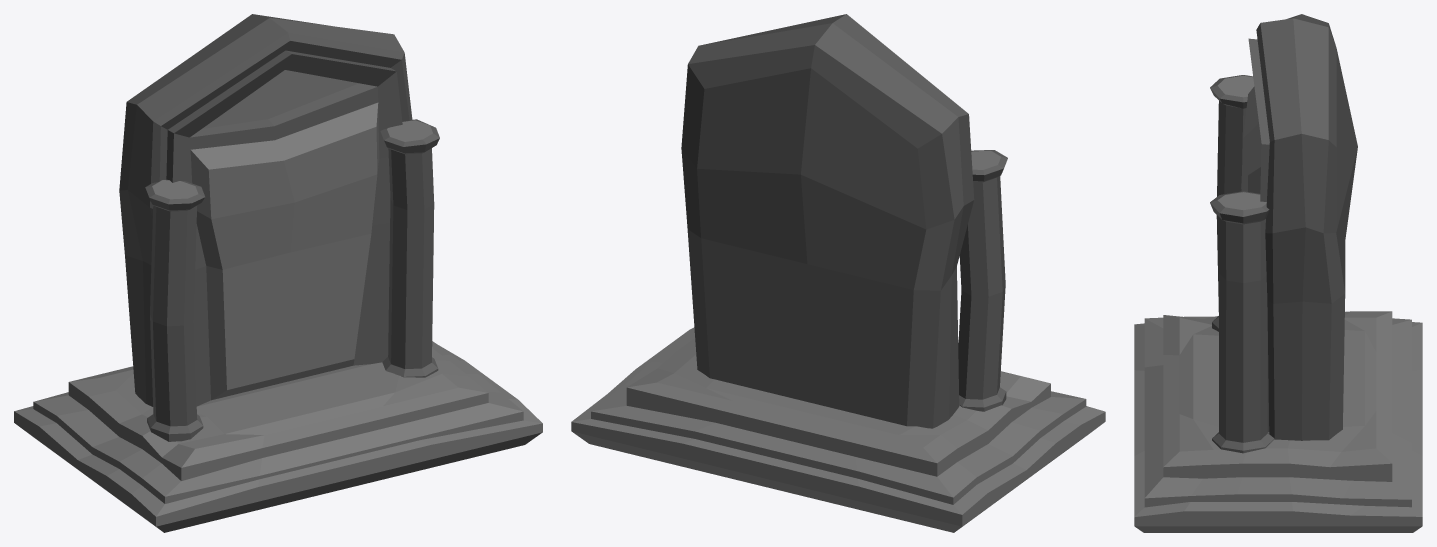
Rendered from TombStone_02.fbx.
The picture shows the model from 3 angles, left to right: view 1: azimuth 30°, elevation 25°; view 2: azimuth 150°, elevation 25°; view 3: azimuth 270°, elevation 25°; orthographic projection.
Visible parts, largest first — view 1: TombStone_02; view 2: TombStone_02; view 3: TombStone_02.
Boxes of the visible parts, box(x1,y1,x2,y2) form: TombStone_02: box(14, 14, 542, 532); TombStone_02: box(571, 14, 1105, 532); TombStone_02: box(1134, 14, 1422, 532).
Bounding box in the file's own units: 210 × 216 × 133.
Materials: 1 (1 with a texture image).
